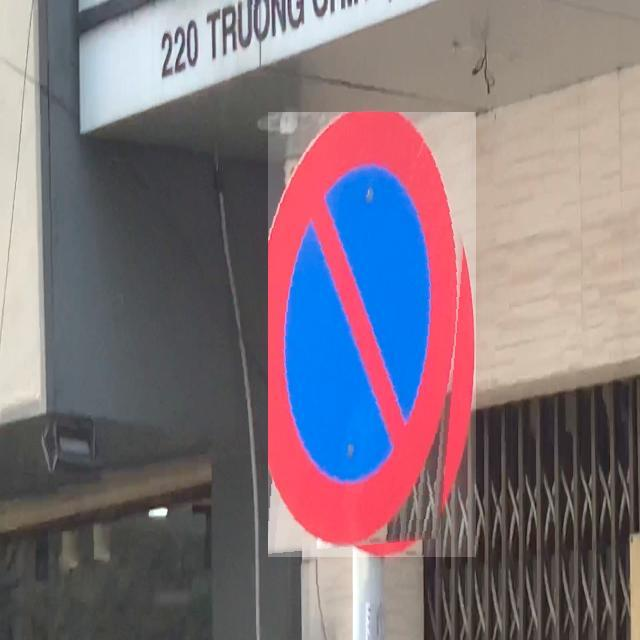P-131a: (268, 112, 476, 557)
